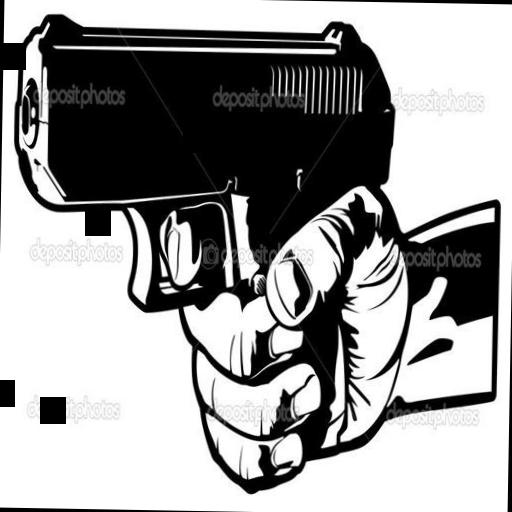Handgun: (10, 6, 396, 462)
